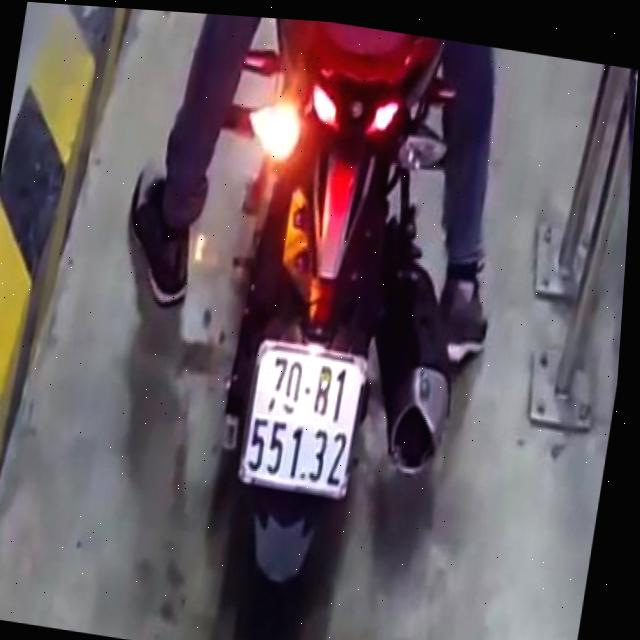motorcycle: (141, 12, 505, 640)
plate: (227, 331, 373, 502)
